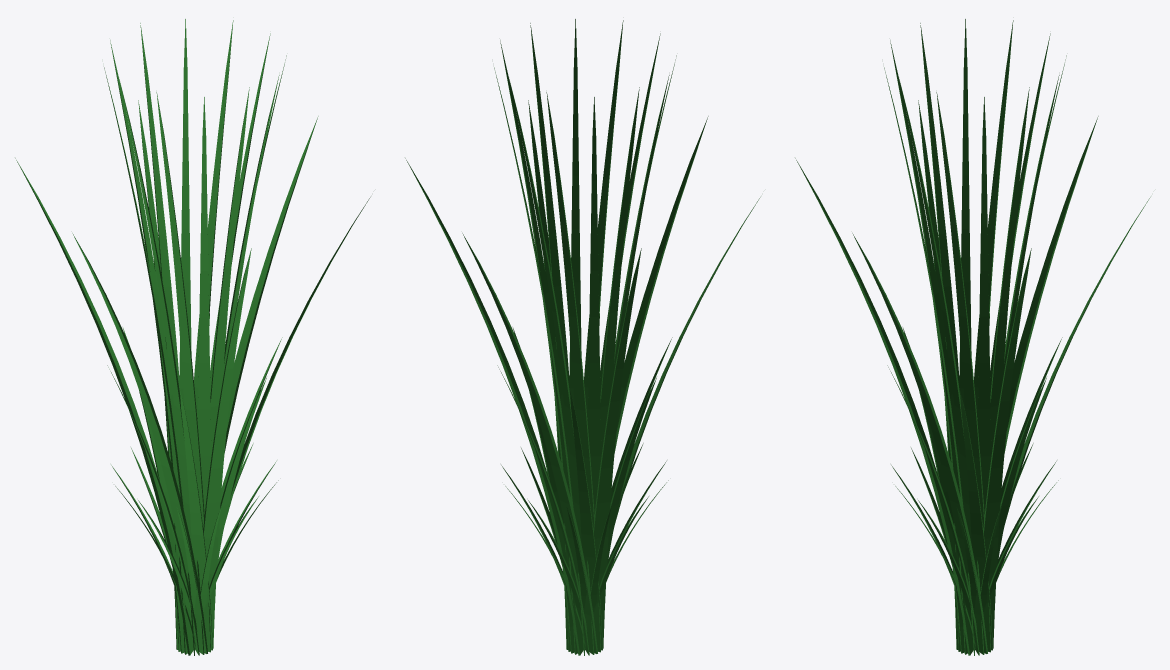
Rendered from Grass1.FBX.
3 renders of one model, left to right at view 1: azimuth 30°, elevation 25°; view 2: azimuth 150°, elevation 25°; view 3: azimuth 270°, elevation 25°, orthographic.
Visible parts, largest first — view 1: Grass; view 2: Grass; view 3: Grass.
Boxes of the visible parts, box(x1,y1,x2,y2) form: Grass: box(15, 19, 370, 655); Grass: box(405, 19, 760, 655); Grass: box(795, 19, 1150, 655).
Size of the model in its own units: 29.08 by 54.2 by 29.88.
